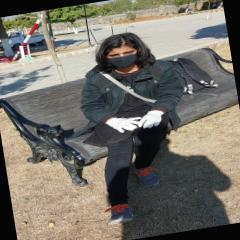gloved: (107, 114, 141, 136), (138, 108, 166, 130)
